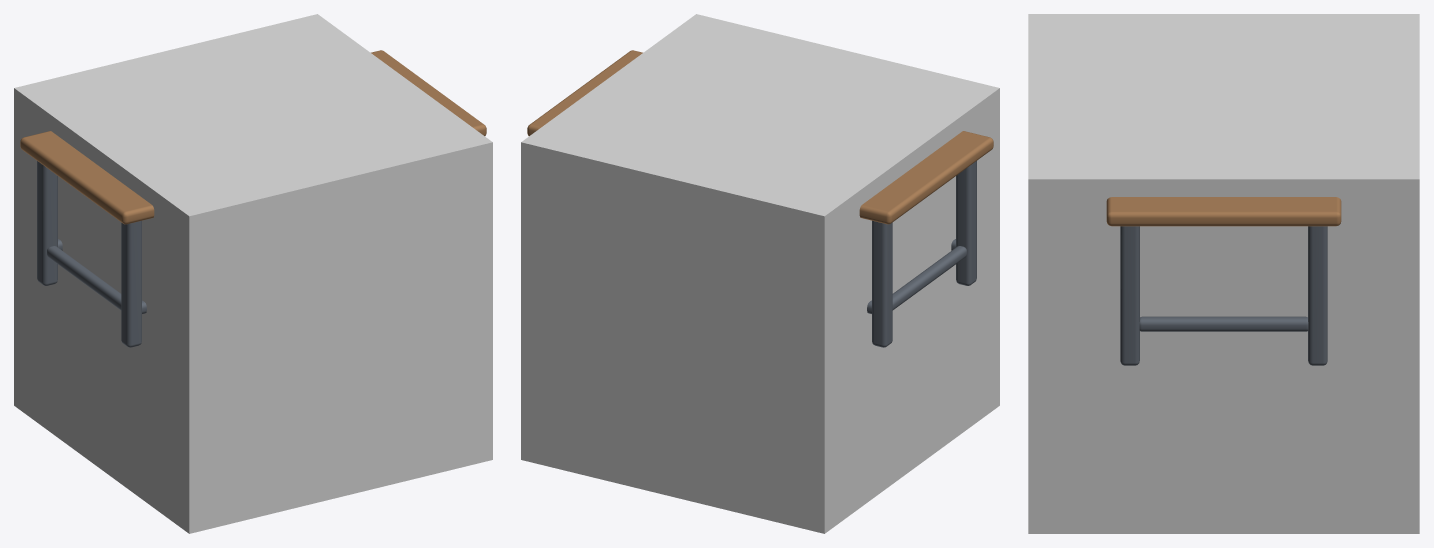
The model's file is WorTbl.fbx.
The picture shows the model from 3 angles, left to right: view 1: azimuth 30°, elevation 25°; view 2: azimuth 150°, elevation 25°; view 3: azimuth 270°, elevation 25°; orthographic projection. The views are drawn at different scales.
Visible parts, largest first — view 1: Cube, Workbench_Tabletop, Workbench_Leg, Workbench_Leg.001, Workbench_Cross_Bar; view 2: Cube, Workbench_Tabletop, Workbench_Leg.001, Workbench_Leg, Workbench_Cross_Bar; view 3: Cube, Workbench_Tabletop, Workbench_Leg.002, Workbench_Leg.003, Workbench_Cross_Bar.001.
Part boxes in pixels (left/top/right/bottom): Cube: left=14, top=14, right=492, bottom=533; Workbench_Tabletop: left=20, top=50, right=486, bottom=224; Workbench_Leg: left=121, top=220, right=141, bottom=347; Workbench_Leg.001: left=37, top=161, right=57, bottom=285; Workbench_Cross_Bar: left=47, top=246, right=121, bottom=310; Cube: left=521, top=14, right=999, bottom=533; Workbench_Tabletop: left=527, top=50, right=993, bottom=224; Workbench_Leg.001: left=872, top=220, right=892, bottom=347; Workbench_Leg: left=956, top=161, right=976, bottom=285; Workbench_Cross_Bar: left=892, top=246, right=966, bottom=310; Cube: left=1028, top=14, right=1419, bottom=533; Workbench_Tabletop: left=1106, top=197, right=1341, bottom=226; Workbench_Leg.002: left=1120, top=226, right=1139, bottom=365; Workbench_Leg.003: left=1308, top=226, right=1327, bottom=365; Workbench_Cross_Bar.001: left=1139, top=316, right=1308, bottom=331.
Size of the model in its own units: 240 by 200 by 200.
